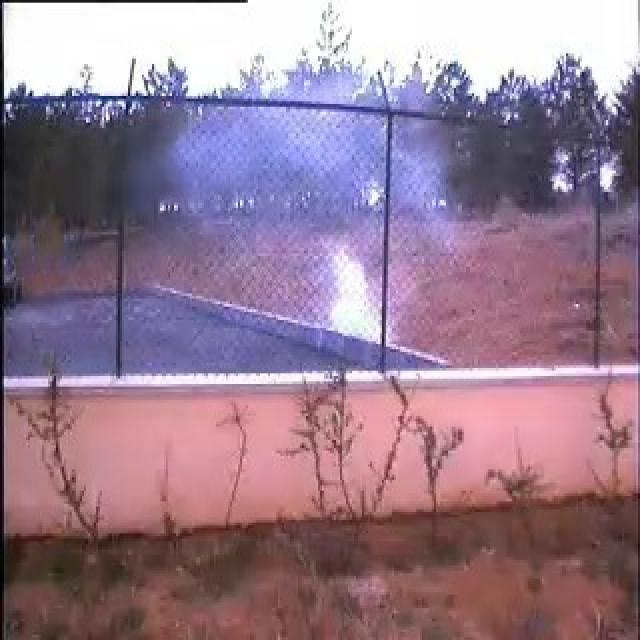smoke: (197, 103, 409, 346)
